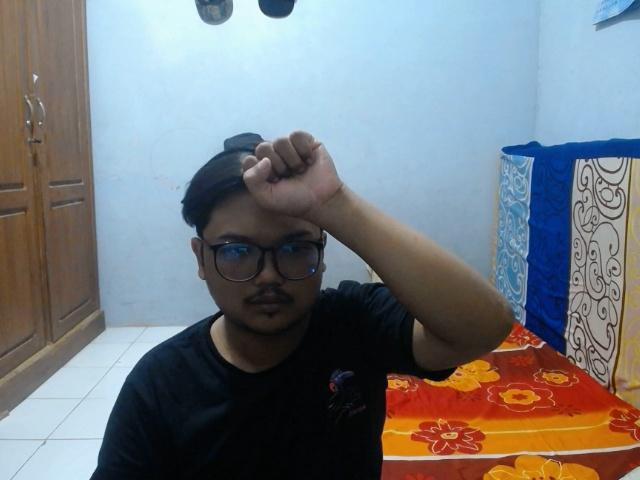Grab: (240, 128, 349, 221)
